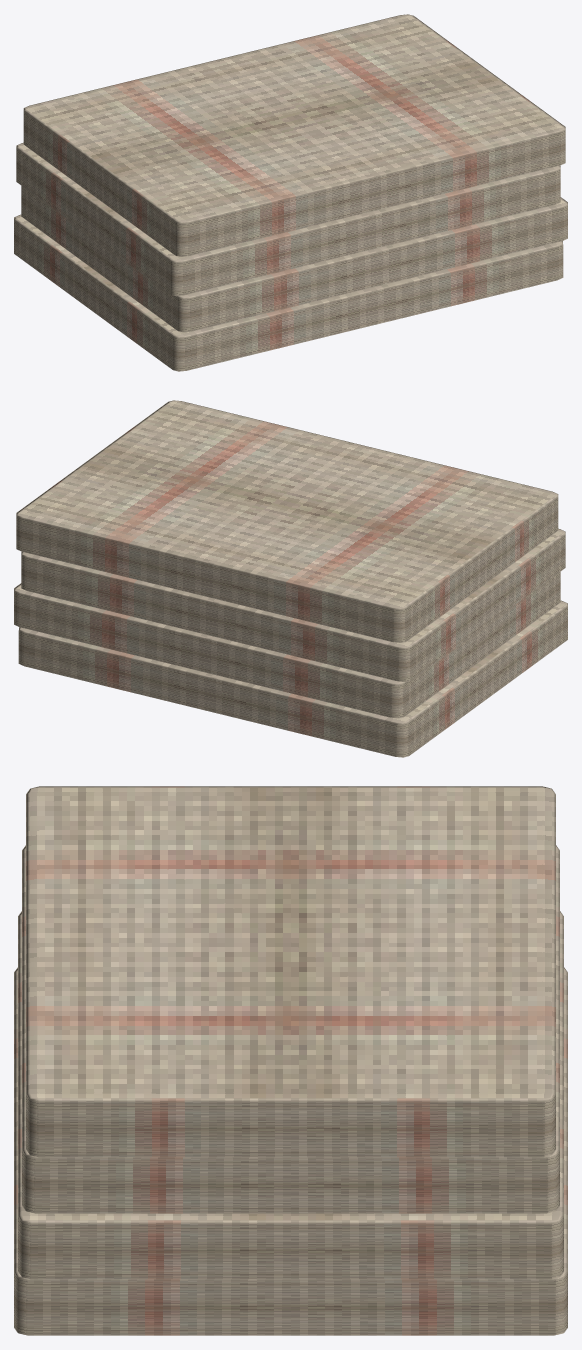
File: dressing.glb
3 renders of one model, top to bottom at view 1: azimuth 30°, elevation 25°; view 2: azimuth 150°, elevation 25°; view 3: azimuth 270°, elevation 25°, orthographic. The views are drawn at different scales.
Visible parts, largest first — view 1: fold (×4); view 2: fold (×4); view 3: fold (×4).
Part boxes in pixels (x1,y1,x2,y2): fold (×4): (14, 14, 567, 371); fold (×4): (14, 400, 567, 757); fold (×4): (14, 786, 567, 1335).
Bounding box in the file's own units: 0.197 × 0.0693 × 0.144.
1 material, 1 textured.
